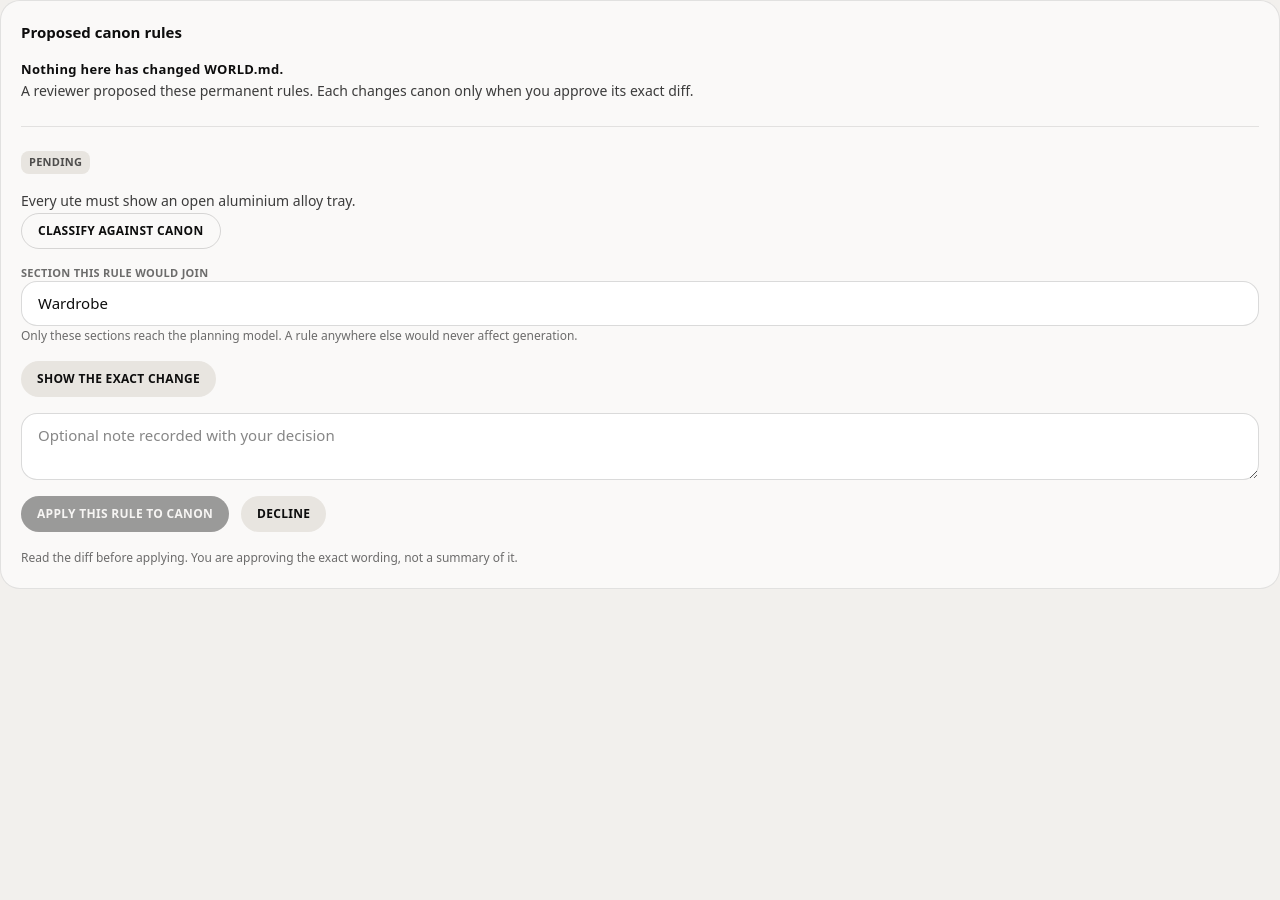
Scenario: CanonProposals › shows the exact diff on request and then allows applying
Click the button "Show the exact change": (118, 379) [21, 361, 216, 397]
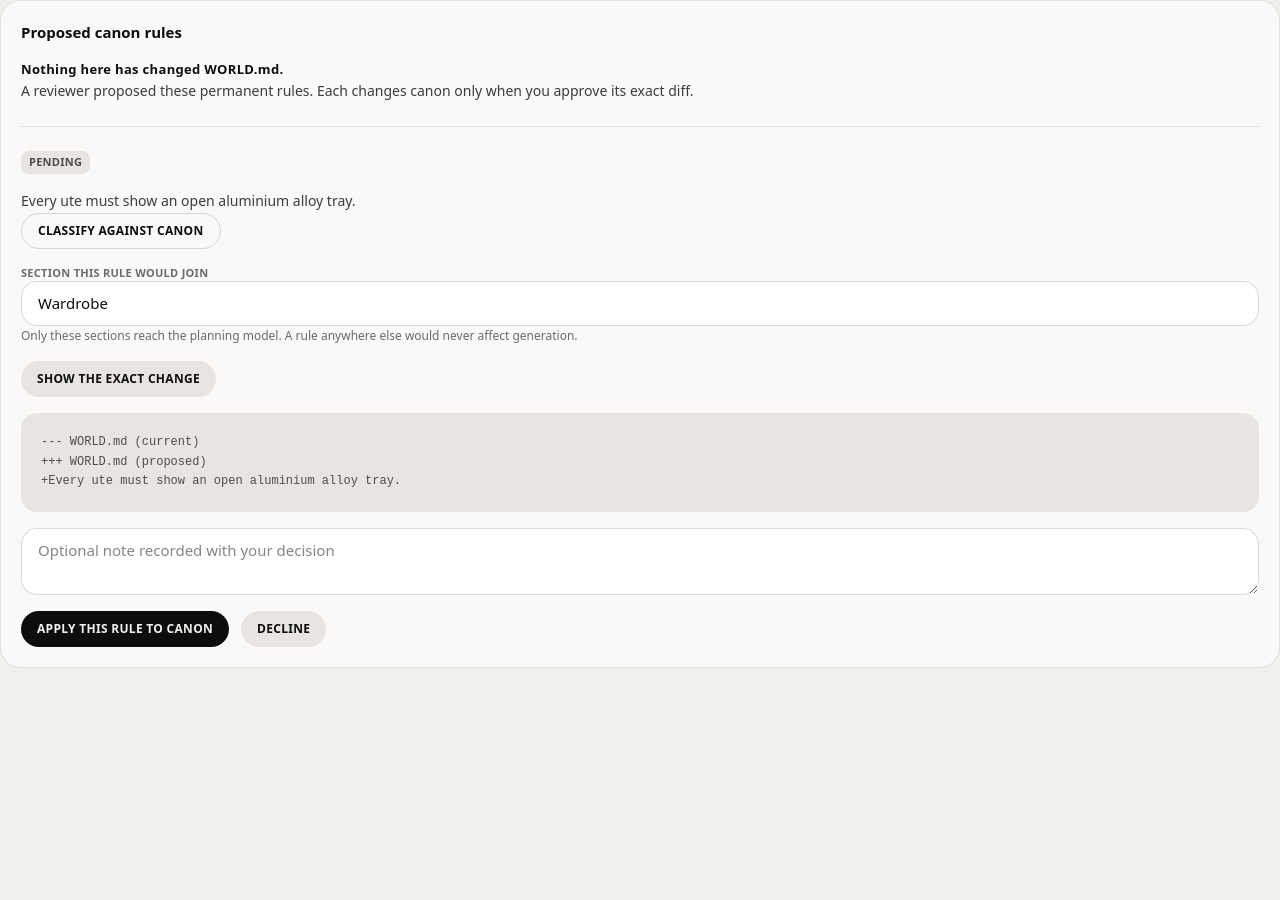
Expected: the text "+++ WORLD.md (proposed)" is shown, [41, 435, 401, 488]
Expected: the button "Apply this rule to canon" is enabled, [21, 610, 229, 646]
